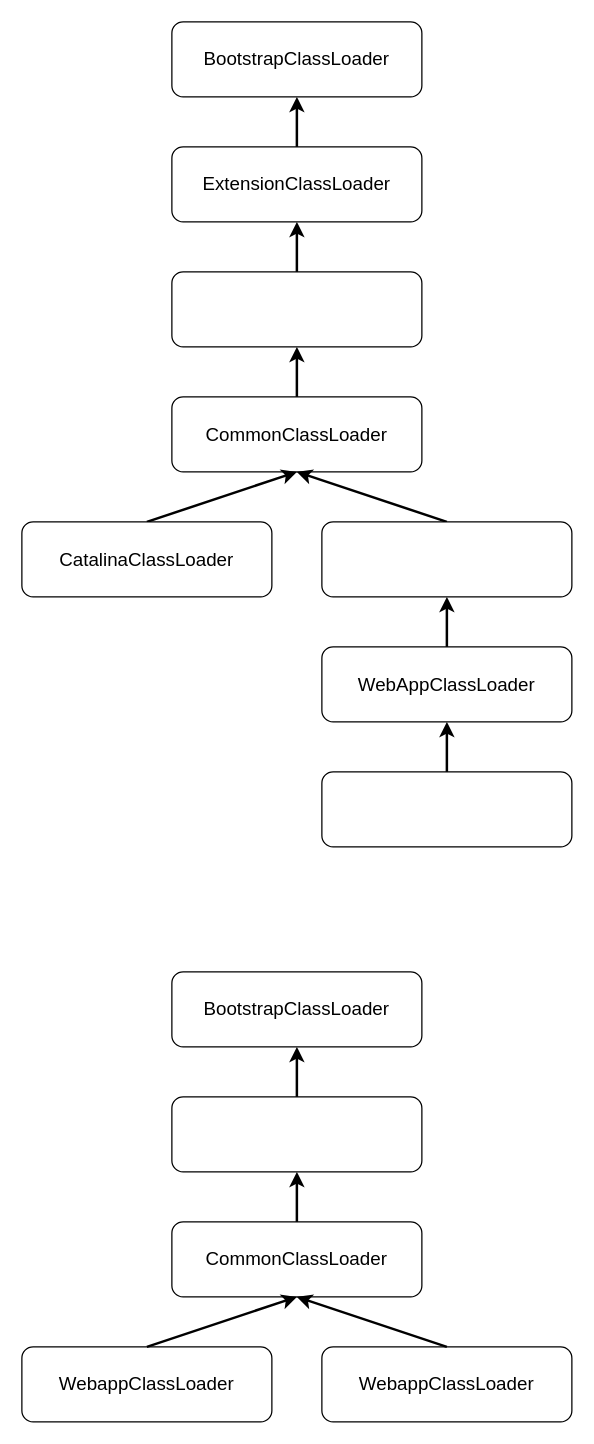
Some shapes in this 594 by 1444 pixel diagram are drawn without their labels. Each missing label, with the centre of its shape:
ApplicationClassLoader: [296,309]
JasperClassLoader: [446,809]
SharedClassLoader: [446,559]
SystemClassLoader: [296,1134]
